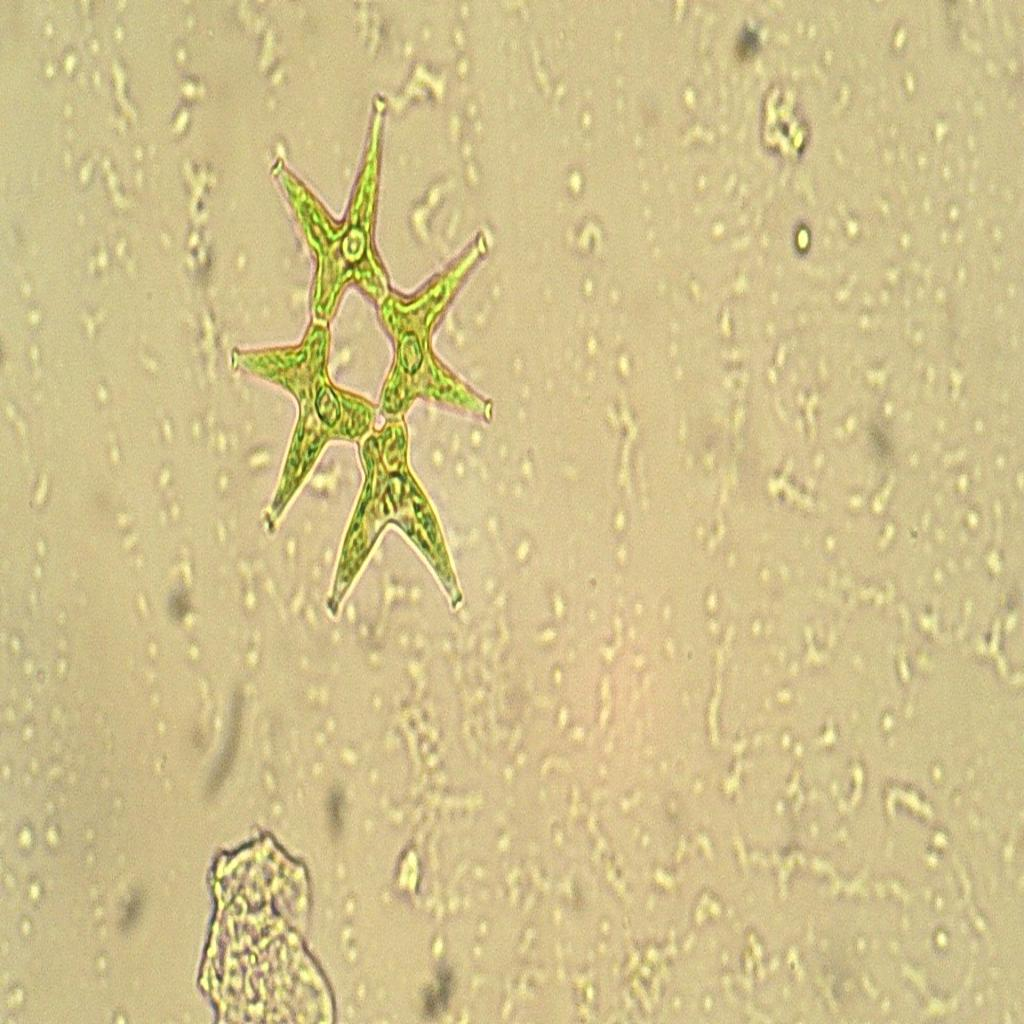Pediastrum_75FI: (223, 88, 504, 632)
